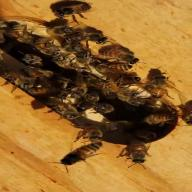Bee: (14, 66, 58, 100), (60, 138, 102, 168), (48, 0, 97, 22), (120, 143, 159, 168), (104, 44, 144, 63)
